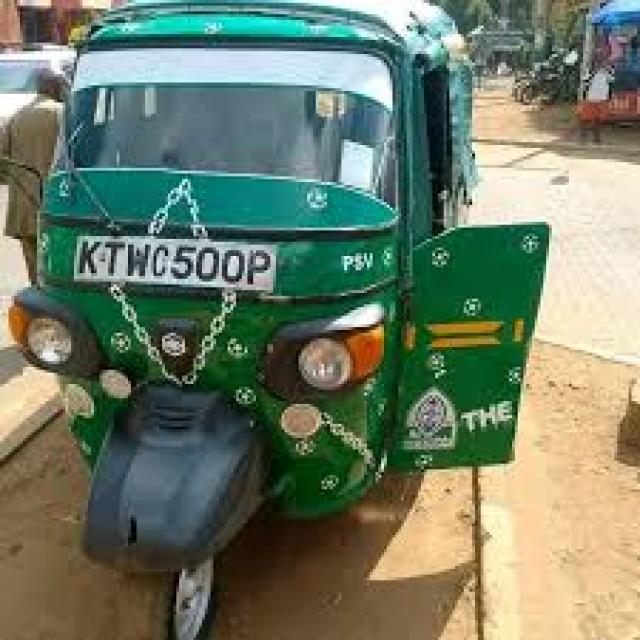tuktuk: (0, 3, 589, 640)
